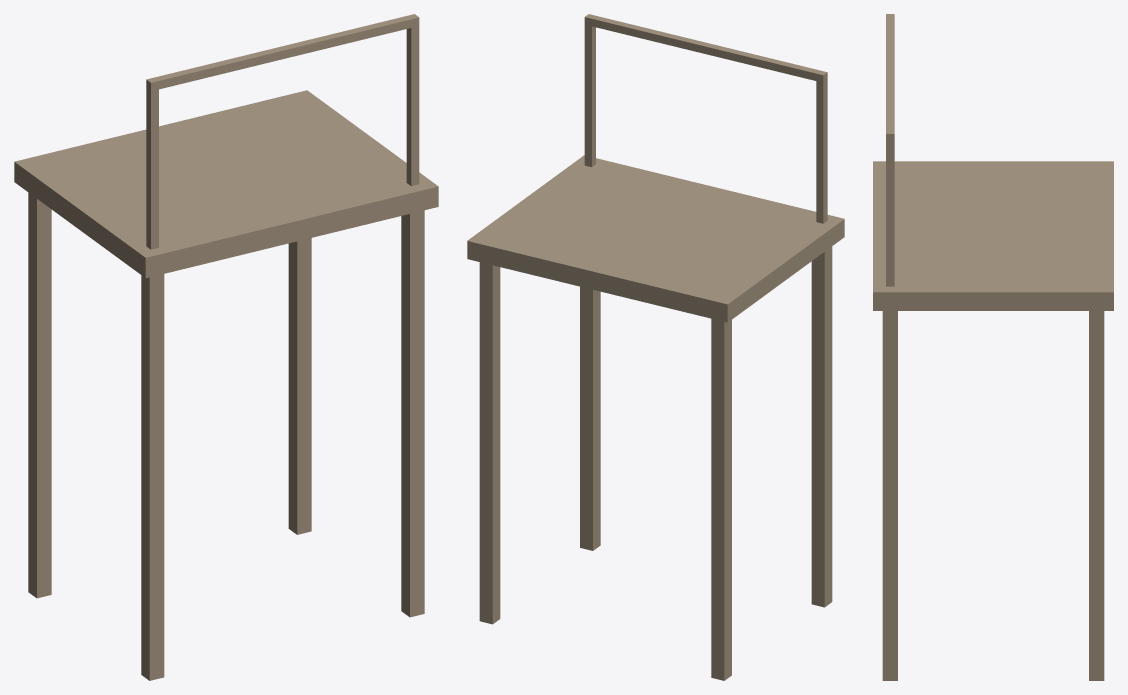
The model's file is stock-car-oval-speedway-flag-stand-c8c58845__16925.glb.
The picture shows the model from 3 angles, left to right: view 1: azimuth 30°, elevation 25°; view 2: azimuth 150°, elevation 25°; view 3: azimuth 270°, elevation 25°; orthographic projection. The views are drawn at different scales.
Parts seen in each view (by area): view 1: flag-stand; view 2: flag-stand; view 3: flag-stand.
Part boxes in pixels (box(x1,y1,x2,y2)): flag-stand: box(14, 14, 438, 680); flag-stand: box(467, 14, 844, 680); flag-stand: box(873, 14, 1113, 680).
Bounding box in the file's own units: 1.8 × 3.5 × 1.4.
